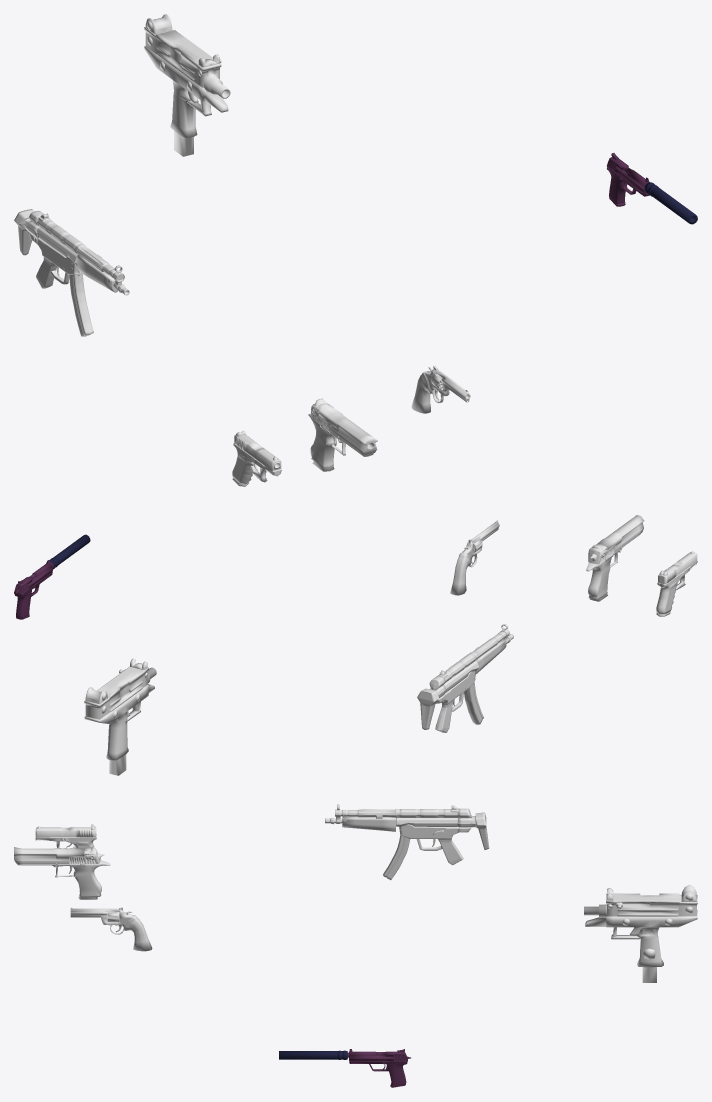
Rendered from SusturuculuSIlahToonlasms2.fbx.
The picture shows the model from 3 angles, top to bottom: view 1: azimuth 30°, elevation 25°; view 2: azimuth 150°, elevation 25°; view 3: azimuth 270°, elevation 25°; orthographic projection. The views are drawn at different scales.
Visible parts, largest first — view 1: smg2, smg1, pistol2, pistol4, pistol3, pistol1; view 2: smg2, smg1, pistol2, pistol4, pistol3, pistol1; view 3: smg2, smg1, pistol2, pistol4, pistol1, pistol3.
Boxes of the visible parts, box(x1,y1,x2,y2) form: smg2: box(144, 14, 230, 156); smg1: box(14, 209, 129, 336); pistol2: box(308, 398, 377, 471); pistol4: box(607, 153, 697, 224); pistol3: box(232, 431, 281, 486); pistol1: box(411, 365, 470, 413); smg2: box(84, 658, 156, 775); smg1: box(417, 624, 513, 732); pistol2: box(586, 515, 644, 601); pistol4: box(14, 534, 90, 619); pistol3: box(656, 551, 697, 616); pistol1: box(450, 520, 499, 595); smg2: box(584, 885, 697, 982); smg1: box(325, 804, 489, 880); pistol2: box(14, 846, 110, 899); pistol4: box(279, 1049, 410, 1087); pistol1: box(70, 907, 152, 951); pistol3: box(35, 824, 100, 860).
Bounding box in the file's own units: 915 × 176 × 1185.
